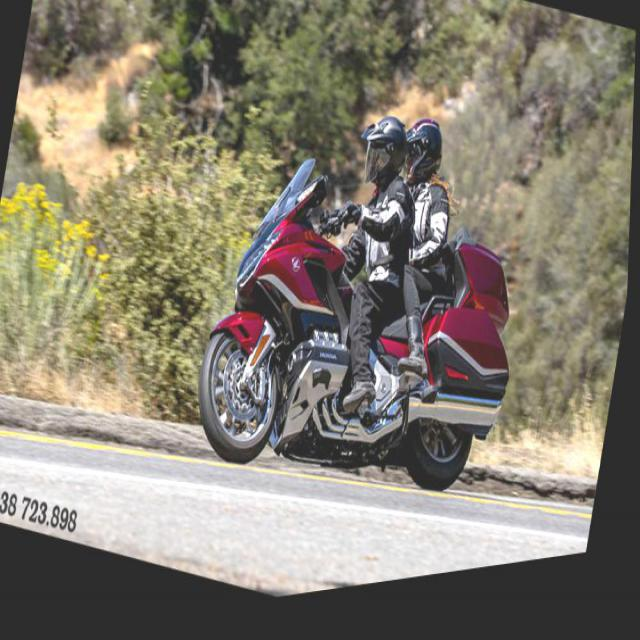Gold Wing: (187, 109, 540, 581)
